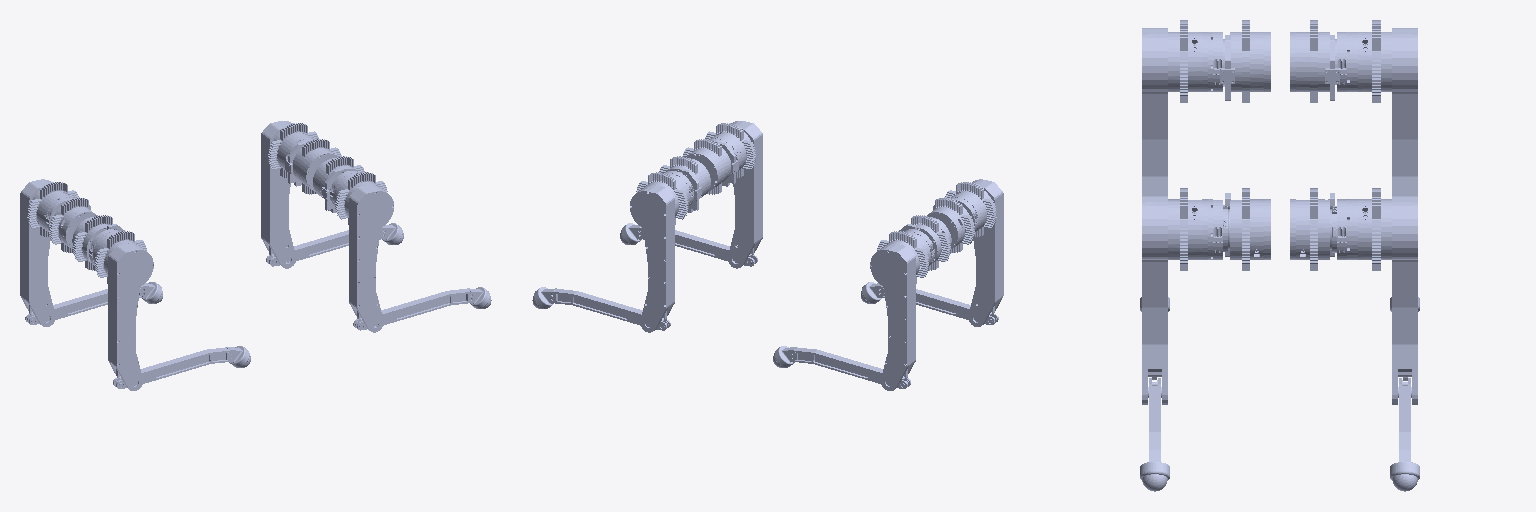
robot.urdf — PongBot_R_V1.0:
<?xml version="1.0" encoding="utf-8"?>
<!-- This URDF was automatically created by SolidWorks to URDF Exporter! Originally created by [author] ([email redacted]) 
     Commit Version: 1.6.0-4-g7f85cfe  Build Version: 1.6.7995.38578
     For more information, please see http://wiki.ros.org/sw_urdf_exporter -->
<robot
  name="PongBot_R_V1.0">
  <link
    name="BODY">
    <inertial>
      <origin
        xyz="-0.00654811 -0.00370864 -0.00412211"
        rpy="0 0 0" />
      <mass
        value="34.01149347" />         <!-- 기존에 가져온 값 : 30.49349326 -->
      <inertia
        ixx="0.41021871"
        ixy="-0.01410035"
        ixz="0.00530174"
        iyy="1.27775339"
        iyz="-0.00002209"
        izz="1.61653207" />
    </inertial>
    <visual>
      <origin
        xyz="0 0 0"
        rpy="0 0 0" />
      <geometry>
        <mesh
          filename="../meshes/BODY.STL" />
      </geometry>
      <material
        name="">
        <color
          rgba="0.79216 0.81961 0.93333 1" />
      </material>
    </visual>
    <collision>
      <origin
        xyz="0 0 0"
        rpy="0 0 0" />
      <geometry>
        <mesh
          filename="../meshes/BODY.STL" />
      </geometry>
    </collision>
  </link>
  <link
    name="FL_HIP">
    <inertial>
      <origin
        xyz="-0.00531965 -0.03425838 -0.00012951"
        rpy="0 0 0" />
      <mass
        value="2.73800000" />                        <!-- 기존에 가져온 값 : 2.56168131 -->
      <inertia
        ixx="0.00418335"
        ixy="0.00056030"
        ixz="-0.00003915"
        iyy="0.00565772"
        iyz="0.00002505"
        izz="0.00430654" />
    </inertial>
    <visual>
      <origin
        xyz="0 0 0"
        rpy="0 0 0" />
      <geometry>
        <mesh
          filename="../meshes/FL_HIP.STL" />
      </geometry>
      <material
        name="">
        <color
          rgba="0.79216 0.81961 0.93333 1" />
      </material>
    </visual>
    <collision>
      <origin
        xyz="0 0 0"
        rpy="0 0 0" />
      <geometry>
        <mesh
          filename="../meshes/FL_HIP.STL" />
      </geometry>
    </collision>
  </link>
  <joint
    name="FL_HR_JOINT"
    type="revolute">
    <origin
      xyz="0.3875 0.102 0"
      rpy="0 0 0" />
    <parent
      link="BODY" />
    <child
      link="FL_HIP" />
    <axis
      xyz="1 0 0" />
    <limit
      lower="-0.349066"
      upper="0.349066"
      effort="0"
      velocity="0" />
  </joint>
  <link
    name="FL_THIGH">
    <inertial>
      <origin
        xyz="-0.00684056 -0.04704750 -0.05190486"
        rpy="0 0 0" />
      <mass
        value="5.66665000" />
      <inertia
        ixx="0.07631273"
        ixy="0.00182006"
        ixz="-0.00420065"
        iyy="0.06908437"
        iyz="0.01380510"
        izz="0.01790240" />
    </inertial>
    <visual>
      <origin
        xyz="0 0 0"
        rpy="0 0 0" />
      <geometry>
        <mesh
          filename="../meshes/FL_THIGH.STL" />
      </geometry>
      <material
        name="">
        <color
          rgba="0.79216 0.81961 0.93333 1" />
      </material>
    </visual>
    <collision>
      <origin
        xyz="0 0 0"
        rpy="0 0 0" />
      <geometry>
        <mesh
          filename="../meshes/FL_THIGH.STL" />
      </geometry>
    </collision>
  </link>
  <joint
    name="FL_HP_JOINT"
    type="revolute">
    <origin
      xyz="0 0.142 0"
      rpy="0 0 0" />
    <parent
      link="FL_HIP" />
    <child
      link="FL_THIGH" />
    <axis
      xyz="0 1 0" />
    <limit
      lower="-0.366519"
      upper="1.5708"
      effort="0"
      velocity="0" />
  </joint>
  <link
    name="FL_CALF">
    <inertial>
      <origin
        xyz="0.00814028 0 -0.0924456"
        rpy="0 0 0" />
      <mass
        value="0.75531736" />
      <inertia
        ixx="0.00815522"
        ixy="0"
        ixz="0.00056185"
        iyy="0.00823583"
        iyz="0"
        izz="0.00016373" />
    </inertial>
    <visual>
      <origin
        xyz="0 0 0"
        rpy="0 0 0" />
      <geometry>
        <mesh
          filename="../meshes/FL_CALF.STL" />
      </geometry>
      <material
        name="">
        <color
          rgba="0.79216 0.81961 0.93333 1" />
      </material>
    </visual>
    <collision>
      <origin
        xyz="0 0 0"
        rpy="0 0 0" />
      <geometry>
        <mesh
          filename="../meshes/FL_CALF.STL" />
      </geometry>
    </collision>
  </link>
  <joint
    name="FL_KN_JOINT"
    type="revolute">
    <origin
      xyz="0 0 -0.35"
      rpy="0 0 0" />
    <parent
      link="FL_THIGH" />
    <child
      link="FL_CALF" />
    <axis
      xyz="0 1 0" />
    <limit
      lower="-2.58309"
      upper="-0.488692"
      effort="0"
      velocity="0" />
  </joint>
  <link
    name="FL_TIP">
    <inertial>
      <origin
        xyz="-0.0016622 -9.048E-05 -0.00113793"
        rpy="0 0 0" />
      <mass
        value="0.124" />
      <inertia
        ixx="5.248E-05"
        ixy="0"
        ixz="-7.12E-06"
        iyy="5.749E-05"
        iyz="1E-08"
        izz="4.442E-05" />
    </inertial>
    <visual>
      <origin
        xyz="0 0 0"
        rpy="0 0 0" />
      <geometry>
        <mesh
          filename="../meshes/FL_TIP.STL" />
      </geometry>
      <material
        name="">
        <color
          rgba="0.79216 0.81961 0.93333 1" />
      </material>
    </visual>
    <collision>
      <origin
        xyz="0 0 0"
        rpy="0 0 0" />
      <geometry>
        <mesh
          filename="../meshes/FL_TIP.STL" />
      </geometry>
    </collision>
  </link>
  <joint
    name="FL_TIP_JOINT"
    type="fixed">
    <origin
      xyz="0 0 -0.35"
      rpy="0 0 0" />
    <parent
      link="FL_CALF" />
    <child
      link="FL_TIP" />
    <axis
      xyz="0 0 0" />
  </joint>
  <link
    name="FR_HIP">
    <inertial>
      <origin
        xyz="-0.00528573 0.03425838 -0.00007847"
        rpy="0 0 0" />
      <mass
        value="2.73800000" />                              <!-- 2.56168131 -->
      <inertia
        ixx="0.00418247"
        ixy="-0.00056353"
        ixz="-0.00003878"
        iyy="0.00565874"
        iyz="-0.00002992"
        izz="0.00430844" />
    </inertial>
    <visual>
      <origin
        xyz="0 0 0"
        rpy="0 0 0" />
      <geometry>
        <mesh
          filename="../meshes/FR_HIP.STL" />
      </geometry>
      <material
        name="">
        <color
          rgba="0.79216 0.81961 0.93333 1" />
      </material>
    </visual>
    <collision>
      <origin
        xyz="0 0 0"
        rpy="0 0 0" />
      <geometry>
        <mesh
          filename="../meshes/FR_HIP.STL" />
      </geometry>
    </collision>
  </link>
  <joint
    name="FR_HR_JOINT"
    type="revolute">
    <origin
      xyz="0.3875 -0.102 0"
      rpy="0 0 0" />
    <parent
      link="BODY" />
    <child
      link="FR_HIP" />
    <axis
      xyz="1 0 0" />
    <limit
      lower="-0.349066"
      upper="0.349066"
      effort="0"
      velocity="0" />
  </joint>
  <link
    name="FR_THIGH">
    <inertial>
      <origin
        xyz="-0.00682391 0.04704750 -0.05178585"
        rpy="0 0 0" />
      <mass
        value="5.66665000" />
      <inertia
        ixx="0.07625584"
        ixy="-0.00179078"
        ixz="-0.00415400"
        iyy="0.06900427"
        iyz="-0.01378723"
        izz="0.01787918" />
    </inertial>
    <visual>
      <origin
        xyz="0 0 0"
        rpy="0 0 0" />
      <geometry>
        <mesh
          filename="../meshes/FR_THIGH.STL" />
      </geometry>
      <material
        name="">
        <color
          rgba="0.79216 0.81961 0.93333 1" />
      </material>
    </visual>
    <collision>
      <origin
        xyz="0 0 0"
        rpy="0 0 0" />
      <geometry>
        <mesh
          filename="../meshes/FR_THIGH.STL" />
      </geometry>
    </collision>
  </link>
  <joint
    name="FR_HP_JOINT"
    type="revolute">
    <origin
      xyz="0 -0.142 0"
      rpy="0 0 0" />
    <parent
      link="FR_HIP" />
    <child
      link="FR_THIGH" />
    <axis
      xyz="0 1 0" />
    <limit
      lower="-0.366519"
      upper="1.5708"
      effort="0"
      velocity="0" />
  </joint>
  <link
    name="FR_CALF">
    <inertial>
      <origin
        xyz="0.00814028 0 -0.0924456"
        rpy="0 0 0" />
      <mass
        value="0.75531736" />
      <inertia
        ixx="0.00815522"
        ixy="0"
        ixz="0.00056185"
        iyy="0.00823583"
        iyz="0"
        izz="0.00016373" />
    </inertial>
    <visual>
      <origin
        xyz="0 0 0"
        rpy="0 0 0" />
      <geometry>
        <mesh
          filename="../meshes/FR_CALF.STL" />
      </geometry>
      <material
        name="">
        <color
          rgba="0.79216 0.81961 0.93333 1" />
      </material>
    </visual>
    <collision>
      <origin
        xyz="0 0 0"
        rpy="0 0 0" />
      <geometry>
        <mesh
          filename="../meshes/FR_CALF.STL" />
      </geometry>
    </collision>
  </link>
  <joint
    name="FR_KN_JOINT"
    type="revolute">
    <origin
      xyz="0 0 -0.35"
      rpy="0 0 0" />
    <parent
      link="FR_THIGH" />
    <child
      link="FR_CALF" />
    <axis
      xyz="0 1 0" />
    <limit
      lower="-2.58309"
      upper="-0.488692"
      effort="0"
      velocity="0" />
  </joint>
  <link
    name="FR_TIP">
    <inertial>
      <origin
        xyz="-0.0016622 -9.048E-05 -0.00113793"
        rpy="0 0 0" />
      <mass
        value="0.124" />
      <inertia
        ixx="5.248E-05"
        ixy="0"
        ixz="-7.12E-06"
        iyy="5.749E-05"
        iyz="1E-08"
        izz="4.442E-05" />
    </inertial>
    <visual>
      <origin
        xyz="0 0 0"
        rpy="0 0 0" />
      <geometry>
        <mesh
          filename="../meshes/FR_TIP.STL" />
      </geometry>
      <material
        name="">
        <color
          rgba="0.79216 0.81961 0.93333 1" />
      </material>
    </visual>
    <collision>
      <origin
        xyz="0 0 0"
        rpy="0 0 0" />
      <geometry>
        <mesh
          filename="../meshes/FR_TIP.STL" />
      </geometry>
    </collision>
  </link>
  <joint
    name="FR_TIP_JOINT"
    type="fixed">
    <origin
      xyz="0 0 -0.35"
      rpy="0 0 0" />
    <parent
      link="FR_CALF" />
    <child
      link="FR_TIP" />
    <axis
      xyz="0 0 0" />
  </joint>
  <link
    name="RL_HIP">
    <inertial>
      <origin
        xyz="0.00531965 -0.03425838 -0.00029224"
        rpy="0 0 0" />
      <mass
        value="2.73800000" />                          <!-- 2.56168131 -->
      <inertia
        ixx="0.00418316"
        ixy="-0.00056030"
        ixz="0.00001821"
        iyy="0.00565753"
        iyz="0.00001451"
        izz="0.00430654" />
    </inertial>
    <visual>
      <origin
        xyz="0 0 0"
        rpy="0 0 0" />
      <geometry>
        <mesh
          filename="../meshes/RL_HIP.STL" />
      </geometry>
      <material
        name="">
        <color
          rgba="0.79216 0.81961 0.93333 1" />
      </material>
    </visual>
    <collision>
      <origin
        xyz="0 0 0"
        rpy="0 0 0" />
      <geometry>
        <mesh
          filename="../meshes/RL_HIP.STL" />
      </geometry>
    </collision>
  </link>
  <joint
    name="RL_HR_JOINT"
    type="revolute">
    <origin
      xyz="-0.3875 0.102 0"
      rpy="0 0 0" />
    <parent
      link="BODY" />
    <child
      link="RL_HIP" />
    <axis
      xyz="1 0 0" />
    <limit
      lower="-0.349066"
      upper="0.349066"
      effort="0"
      velocity="0" />
  </joint>
  <link
    name="RL_THIGH">
    <inertial>
      <origin
        xyz="-0.00691464 -0.04704750 -0.05199316"
        rpy="0 0 0" />
      <mass
        value="5.66665000" />
      <inertia
        ixx="0.07626074"
        ixy="0.00178209"
        ixz="-0.00417540"
        iyy="0.06902662"
        iyz="0.01375985"
        izz="0.01789662" />
    </inertial>
    <visual>
      <origin
        xyz="0 0 0"
        rpy="0 0 0" />
      <geometry>
        <mesh
          filename="../meshes/RL_THIGH.STL" />
      </geometry>
      <material
        name="">
        <color
          rgba="0.79216 0.81961 0.93333 1" />
      </material>
    </visual>
    <collision>
      <origin
        xyz="0 0 0"
        rpy="0 0 0" />
      <geometry>
        <mesh
          filename="../meshes/RL_THIGH.STL" />
      </geometry>
    </collision>
  </link>
  <joint
    name="RL_HP_JOINT"
    type="revolute">
    <origin
      xyz="0 0.142 0"
      rpy="0 0 0" />
    <parent
      link="RL_HIP" />
    <child
      link="RL_THIGH" />
    <axis
      xyz="0 1 0" />
    <limit
      lower="-0.366519"
      upper="1.5708"
      effort="0"
      velocity="0" />
  </joint>
  <link
    name="RL_CALF">
    <inertial>
      <origin
        xyz="0.00814028 0 -0.0924456"
        rpy="0 0 0" />
      <mass
        value="0.75531736" />
      <inertia
        ixx="0.00815522"
        ixy="0"
        ixz="0.00056185"
        iyy="0.00823583"
        iyz="0"
        izz="0.00016373" />
    </inertial>
    <visual>
      <origin
        xyz="0 0 0"
        rpy="0 0 0" />
      <geometry>
        <mesh
          filename="../meshes/RL_CALF.STL" />
      </geometry>
      <material
        name="">
        <color
          rgba="0.79216 0.81961 0.93333 1" />
      </material>
    </visual>
    <collision>
      <origin
        xyz="0 0 0"
        rpy="0 0 0" />
      <geometry>
        <mesh
          filename="../meshes/RL_CALF.STL" />
      </geometry>
    </collision>
  </link>
  <joint
    name="RL_KN_JOINT"
    type="revolute">
    <origin
      xyz="0 0 -0.35"
      rpy="0 0 0" />
    <parent
      link="RL_THIGH" />
    <child
      link="RL_CALF" />
    <axis
      xyz="0 1 0" />
    <limit
      lower="-2.58309"
      upper="-0.488692"
      effort="0"
      velocity="0" />
  </joint>
  <link
    name="RL_TIP">
    <inertial>
      <origin
        xyz="-0.0016622 -9.048E-05 -0.0011379"
        rpy="0 0 0" />
      <mass
        value="0.124" />
      <inertia
        ixx="5.248E-05"
        ixy="0"
        ixz="-7.12E-06"
        iyy="5.749E-05"
        iyz="1E-08"
        izz="4.442E-05" />
    </inertial>
    <visual>
      <origin
        xyz="0 0 0"
        rpy="0 0 0" />
      <geometry>
        <mesh
          filename="../meshes/RL_TIP.STL" />
      </geometry>
      <material
        name="">
        <color
          rgba="0.79216 0.81961 0.93333 1" />
      </material>
    </visual>
    <collision>
      <origin
        xyz="0 0 0"
        rpy="0 0 0" />
      <geometry>
        <mesh
          filename="../meshes/RL_TIP.STL" />
      </geometry>
    </collision>
  </link>
  <joint
    name="RL_TIP_JOINT"
    type="fixed">
    <origin
      xyz="0 0 -0.35"
      rpy="0 0 0" />
    <parent
      link="RL_CALF" />
    <child
      link="RL_TIP" />
    <axis
      xyz="0 0 0" />
  </joint>
  <link
    name="RR_HIP">
    <inertial>
      <origin
        xyz="0.00527649 0.03425838 -0.00034165"
        rpy="0 0 0" />
      <mass
        value="2.73800000" />                            <!-- 2.56168131 -->
      <inertia
        ixx="0.00418243"
        ixy="0.00056430"
        ixz="0.00001835"
        iyy="0.00565870"
        iyz="-0.00000979"
        izz="0.00430844" />
    </inertial>
    <visual>
      <origin
        xyz="0 0 0"
        rpy="0 0 0" />
      <geometry>
        <mesh
          filename="../meshes/RR_HIP.STL" />
      </geometry>
      <material
        name="">
        <color
          rgba="0.79216 0.81961 0.93333 1" />
      </material>
    </visual>
    <collision>
      <origin
        xyz="0 0 0"
        rpy="0 0 0" />
      <geometry>
        <mesh
          filename="../meshes/RR_HIP.STL" />
      </geometry>
    </collision>
  </link>
  <joint
    name="RR_HR_JOINT"
    type="revolute">
    <origin
      xyz="-0.3875 -0.102 0"
      rpy="0 0 0" />
    <parent
      link="BODY" />
    <child
      link="RR_HIP" />
    <axis
      xyz="1 0 0" />
    <limit
      lower="-0.349066"
      upper="0.349066"
      effort="0"
      velocity="0" />
  </joint>
  <link
    name="RR_THIGH">
    <inertial>
      <origin
        xyz="-0.00686333 0.04704750 -0.05189416"
        rpy="0 0 0" />
      <mass
        value="5.66665000" />
      <inertia
        ixx="0.07619221"
        ixy="-0.00177057"
        ixz="-0.00413822"
        iyy="0.06893758"
        iyz="-0.01373171"
        izz="0.01787612" />
    </inertial>
    <visual>
      <origin
        xyz="0 0 0"
        rpy="0 0 0" />
      <geometry>
        <mesh
          filename="../meshes/RR_THIGH.STL" />
      </geometry>
      <material
        name="">
        <color
          rgba="0.79216 0.81961 0.93333 1" />
      </material>
    </visual>
    <collision>
      <origin
        xyz="0 0 0"
        rpy="0 0 0" />
      <geometry>
        <mesh
          filename="../meshes/RR_THIGH.STL" />
      </geometry>
    </collision>
  </link>
  <joint
    name="RR_HP_JOINT"
    type="revolute">
    <origin
      xyz="0 -0.142 0"
      rpy="0 0 0" />
    <parent
      link="RR_HIP" />
    <child
      link="RR_THIGH" />
    <axis
      xyz="0 1 0" />
    <limit
      lower="-0.366519"
      upper="1.5708"
      effort="0"
      velocity="0" />
  </joint>
  <link
    name="RR_CALF">
    <inertial>
      <origin
        xyz="0.0081403 0 -0.092446"
        rpy="0 0 0" />
      <mass
        value="0.75532" />
      <inertia
        ixx="0.0081552"
        ixy="0"
        ixz="0.00056185"
        iyy="0.0082358"
        iyz="0"
        izz="0.00016373" />
    </inertial>
    <visual>
      <origin
        xyz="0 0 0"
        rpy="0 0 0" />
      <geometry>
        <mesh
          filename="../meshes/RR_CALF.STL" />
      </geometry>
      <material
        name="">
        <color
          rgba="0.79216 0.81961 0.93333 1" />
      </material>
    </visual>
    <collision>
      <origin
        xyz="0 0 0"
        rpy="0 0 0" />
      <geometry>
        <mesh
          filename="../meshes/RR_CALF.STL" />
      </geometry>
    </collision>
  </link>
  <joint
    name="RR_KN_JOINT"
    type="revolute">
    <origin
      xyz="0 0 -0.35"
      rpy="0 0 0" />
    <parent
      link="RR_THIGH" />
    <child
      link="RR_CALF" />
    <axis
      xyz="0 1 0" />
    <limit
      lower="-2.58309"
      upper="-0.488692"
      effort="0"
      velocity="0" />
  </joint>
  <link
    name="RR_TIP">
    <inertial>
      <origin
        xyz="-0.0016622 -9.048E-05 -0.00113793"
        rpy="0 0 0" />
      <mass
        value="0.124" />
      <inertia
        ixx="5.248E-05"
        ixy="0"
        ixz="-7.12E-06"
        iyy="5.749E-05"
        iyz="1E-08"
        izz="4.442E-05" />
    </inertial>
    <visual>
      <origin
        xyz="0 0 0"
        rpy="0 0 0" />
      <geometry>
        <mesh
          filename="../meshes/RR_TIP.STL" />
      </geometry>
      <material
        name="">
        <color
          rgba="0.79216 0.81961 0.93333 1" />
      </material>
    </visual>
    <collision>
      <origin
        xyz="0 0 0"
        rpy="0 0 0" />
      <geometry>
        <mesh
          filename="../meshes/RR_TIP.STL" />
      </geometry>
    </collision>
  </link>
  <joint
    name="RR_TIP_JOINT"
    type="fixed">
    <origin
      xyz="0 0 -0.35"
      rpy="0 0 0" />
    <parent
      link="RR_CALF" />
    <child
      link="RR_TIP" />
    <axis
      xyz="0 0 0" />
  </joint>
</robot>

--- What the picture shows (computed from the rendered views, not written in the file) ---
3 views of the same robot in one strip: view 1: azimuth 30°, elevation 25°; view 2: azimuth 150°, elevation 25°; view 3: azimuth 270°, elevation 25° (orthographic).
Robot: PongBot_R_V1.0 — 17 links, 16 joints (12 revolute, 4 fixed); root link BODY; default pose: joints at zero except 4 at the middle of their limits (FL_KN_JOINT = -1.54, FR_KN_JOINT = -1.54, RL_KN_JOINT = -1.54, RR_KN_JOINT = -1.54).
Links seen in each view (by area): view 1: RR_THIGH, FR_THIGH, RL_THIGH, FL_THIGH, FL_HIP, RR_CALF, FR_CALF, RL_HIP, RR_HIP, FR_HIP, FL_CALF, RL_CALF; view 2: RL_THIGH, FL_THIGH, RR_THIGH, FR_THIGH, FR_HIP, FL_CALF, RL_CALF, RR_HIP, RL_HIP, FL_HIP, FR_CALF, RR_CALF; view 3: FL_THIGH, FR_THIGH, RL_THIGH, RR_THIGH, RR_HIP, RL_HIP, FR_HIP, FL_HIP, FL_TIP, FR_TIP, FL_CALF, FR_CALF.
Link boxes in pixels (x1,y1,x2,y2): RR_THIGH: [89, 229, 153, 390]; FR_THIGH: [330, 171, 393, 332]; RL_THIGH: [20, 179, 78, 326]; FL_THIGH: [261, 121, 319, 268]; FL_HIP: [285, 139, 341, 194]; RR_CALF: [113, 347, 229, 388]; FR_CALF: [353, 289, 470, 330]; RL_HIP: [49, 197, 97, 252]; RR_HIP: [72, 215, 124, 270]; FR_HIP: [313, 156, 364, 212]; FL_CALF: [266, 227, 382, 266]; RL_CALF: [25, 286, 142, 324]; RL_THIGH: [870, 229, 934, 390]; FL_THIGH: [630, 171, 693, 332]; RR_THIGH: [945, 179, 1003, 326]; FR_THIGH: [704, 121, 762, 268]; FR_HIP: [683, 139, 738, 194]; FL_CALF: [553, 289, 670, 330]; RL_CALF: [794, 348, 910, 388]; RR_HIP: [927, 197, 974, 252]; RL_HIP: [899, 215, 951, 270]; FL_HIP: [659, 156, 710, 212]; FR_CALF: [641, 227, 757, 266]; RR_CALF: [881, 286, 998, 324]; FL_THIGH: [1332, 188, 1417, 404]; FR_THIGH: [1142, 188, 1227, 404]; RL_THIGH: [1335, 20, 1417, 195]; RR_THIGH: [1142, 20, 1224, 195]; RR_HIP: [1220, 20, 1270, 102]; RL_HIP: [1290, 20, 1339, 102]; FR_HIP: [1225, 188, 1270, 270]; FL_HIP: [1290, 188, 1334, 270]; FL_TIP: [1390, 450, 1419, 491]; FR_TIP: [1140, 450, 1169, 491]; FL_CALF: [1398, 378, 1411, 449]; FR_CALF: [1148, 378, 1161, 449].
Size in the robot's own frame: 1.24 by 0.548 by 0.4746 metres.
16 mesh visuals loaded from 17 distinct referenced files (16 binary STL); not drawn: 1 (reference not matched to a file when rendering).
